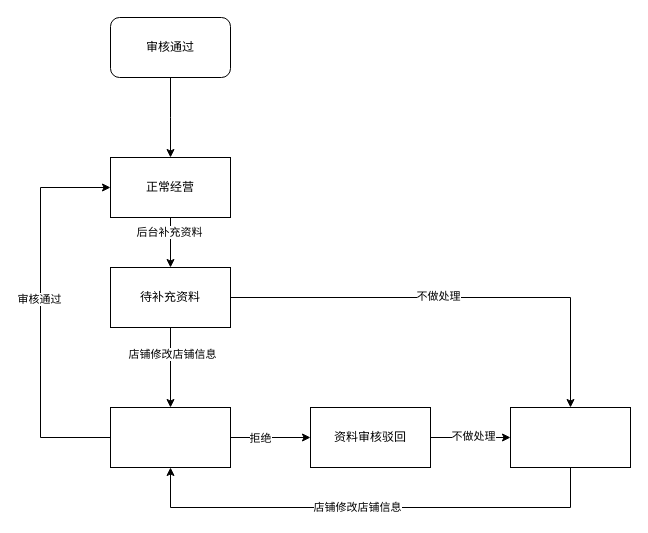
The diagram is 648 pixels wide and 533 high, and some of its shapes have lost their labels. The centre of each missing label's shape, as x and y in pixels:
"观点整改" goes at point (570, 437).
"资料待审核" goes at point (170, 437).
